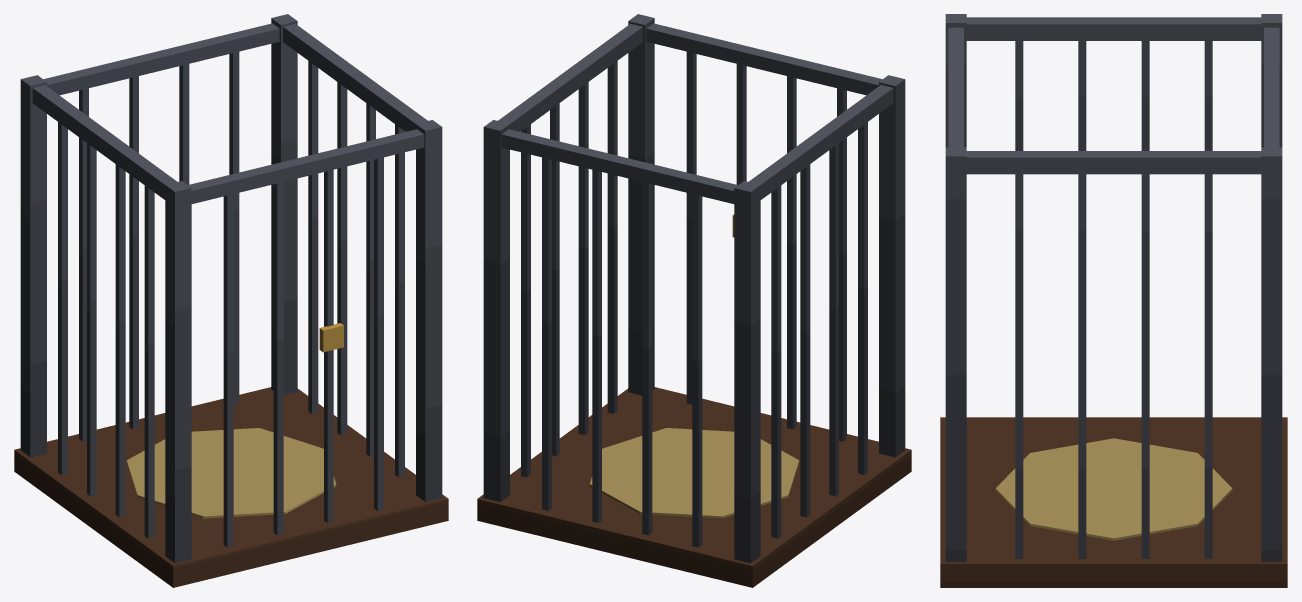
Rendered from prisoner_cage.glb.
The picture shows the model from 3 angles, left to right: view 1: azimuth 30°, elevation 25°; view 2: azimuth 150°, elevation 25°; view 3: azimuth 270°, elevation 25°; orthographic projection. The views are drawn at different scales.
Bounding box in the file's own units: 1.32 × 1.8 × 1.32.
1 material, 1 textured.
